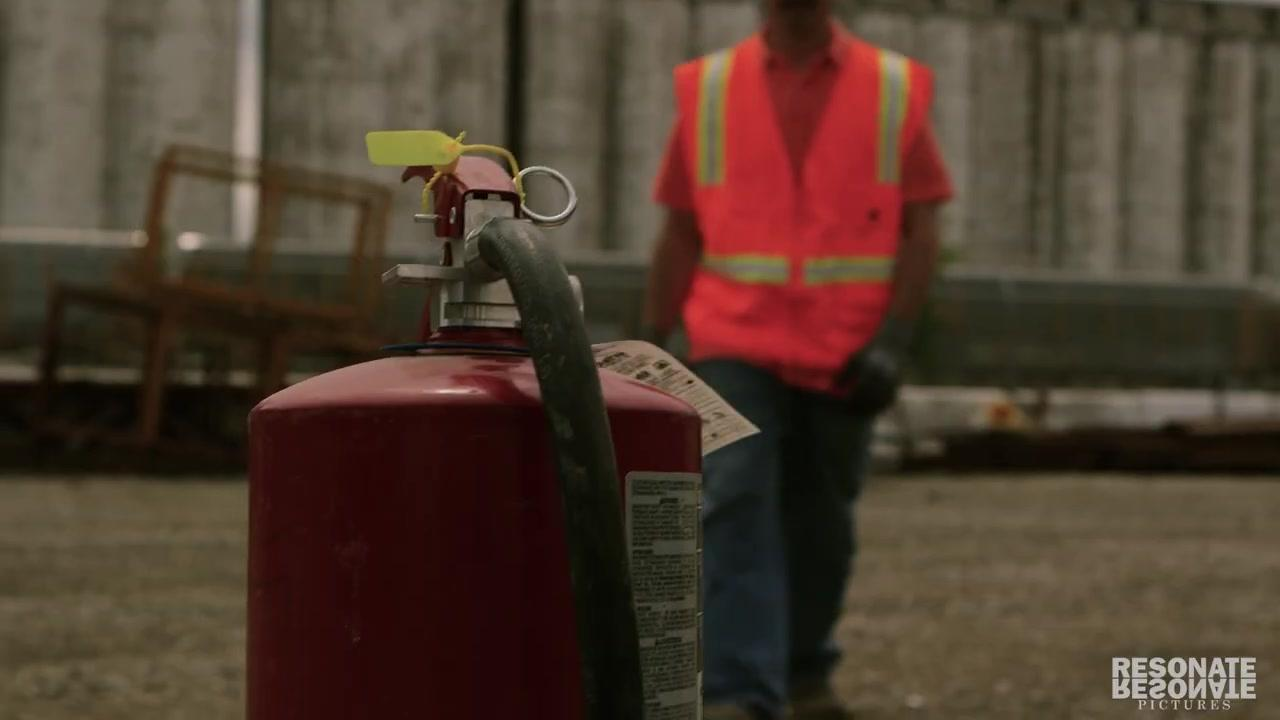vest: (666, 30, 936, 365)
